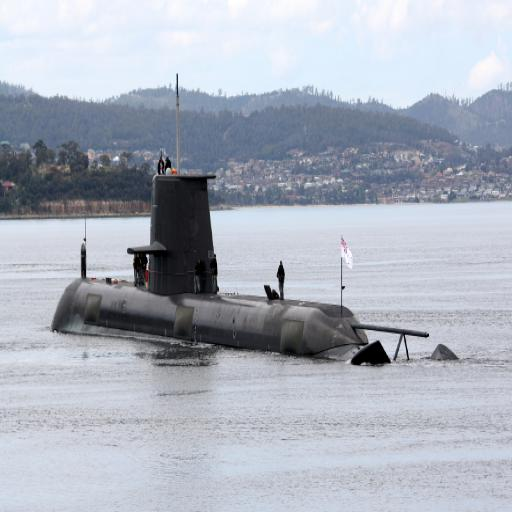submarine: (50, 176, 460, 362)
